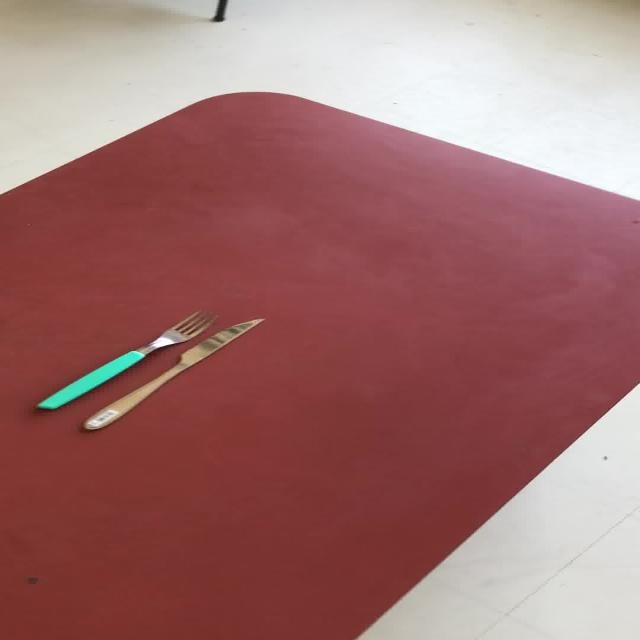fork: (82, 316, 264, 431), (34, 309, 217, 410)
knife fork: (81, 316, 265, 431)
